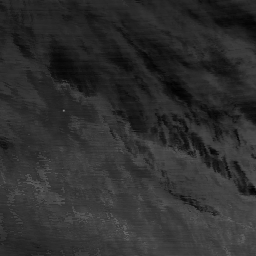Target: (60, 107, 67, 114)
